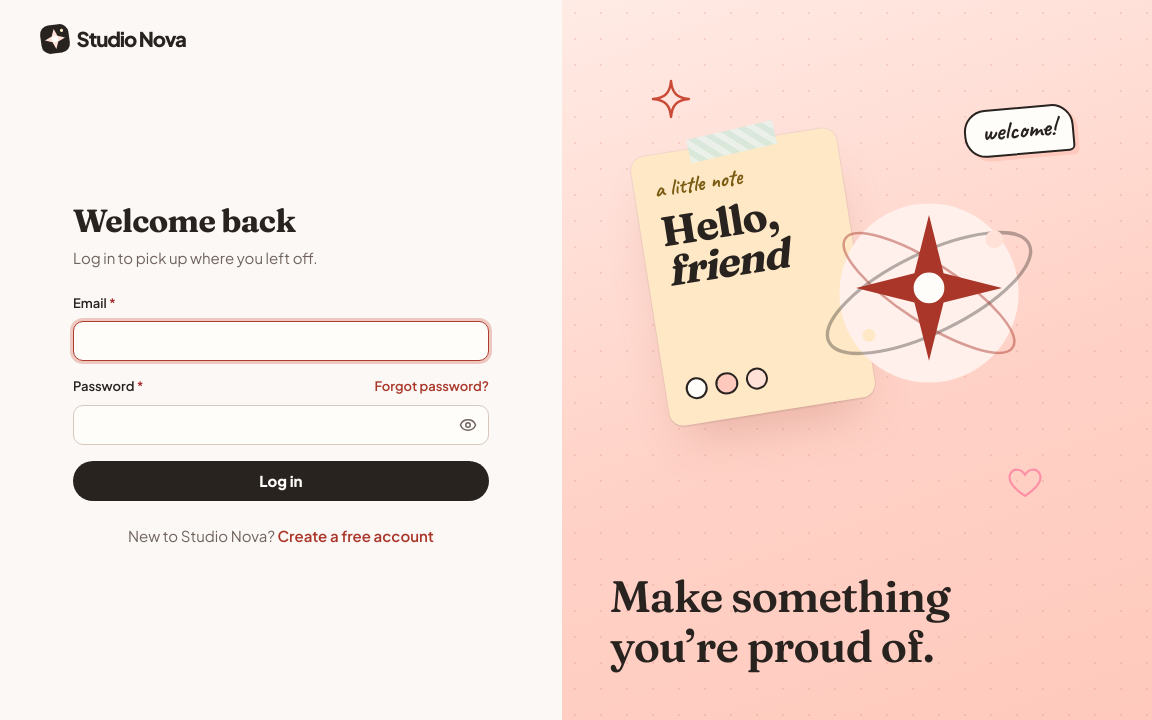
it: login › shows the server message for wrong credentials without clearing the form
Type "ada@example.com" into the field labelled "Email *" at (281, 341), box [86,322,476,360]
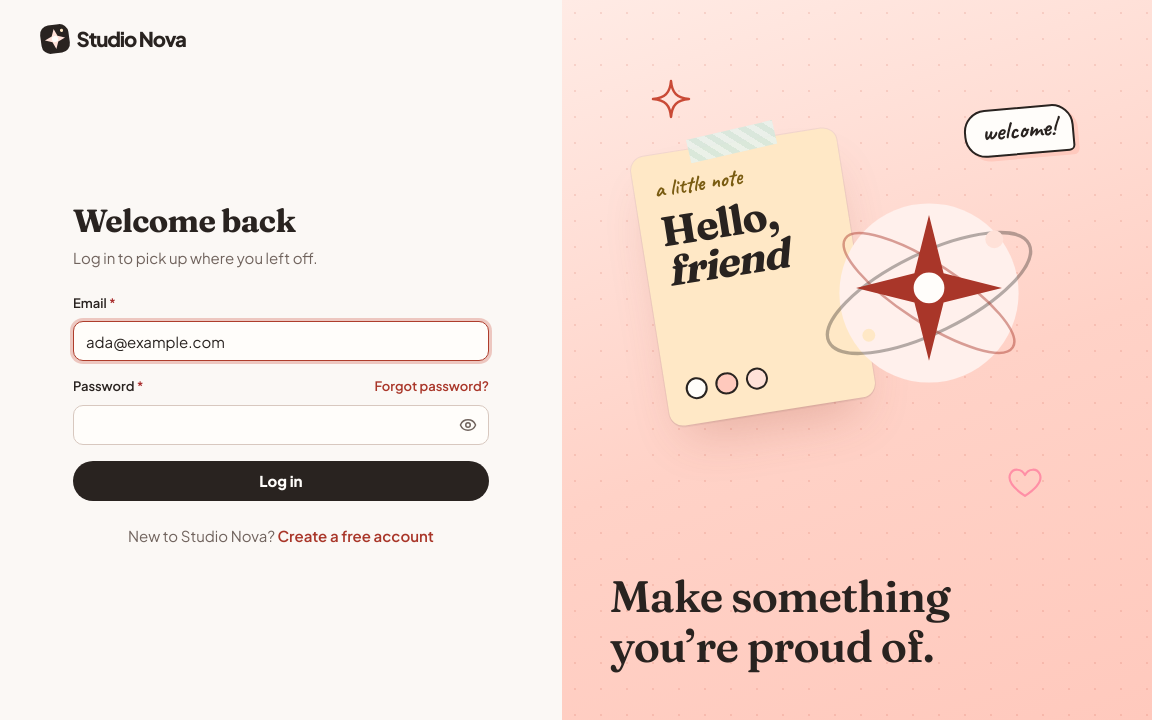
Type "nope" into the password field labelled "Password *" at (265, 425), box [86,406,444,444]
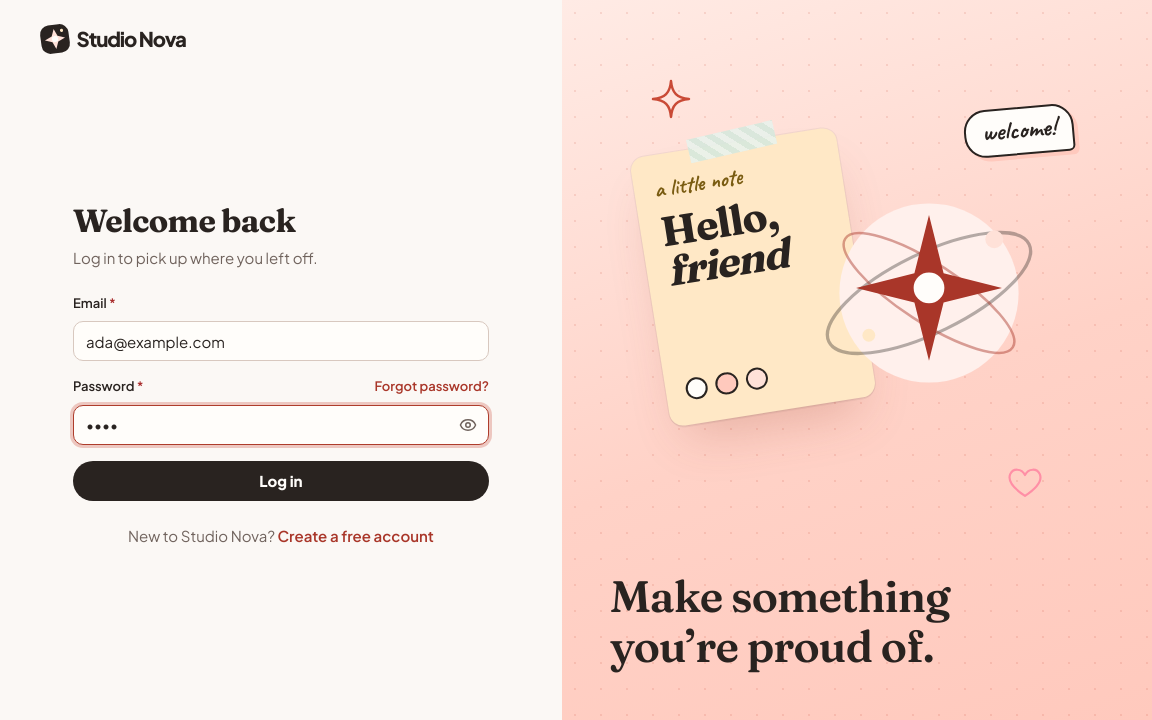
Click the button "Log in" at (281, 481), box [73,461,489,501]
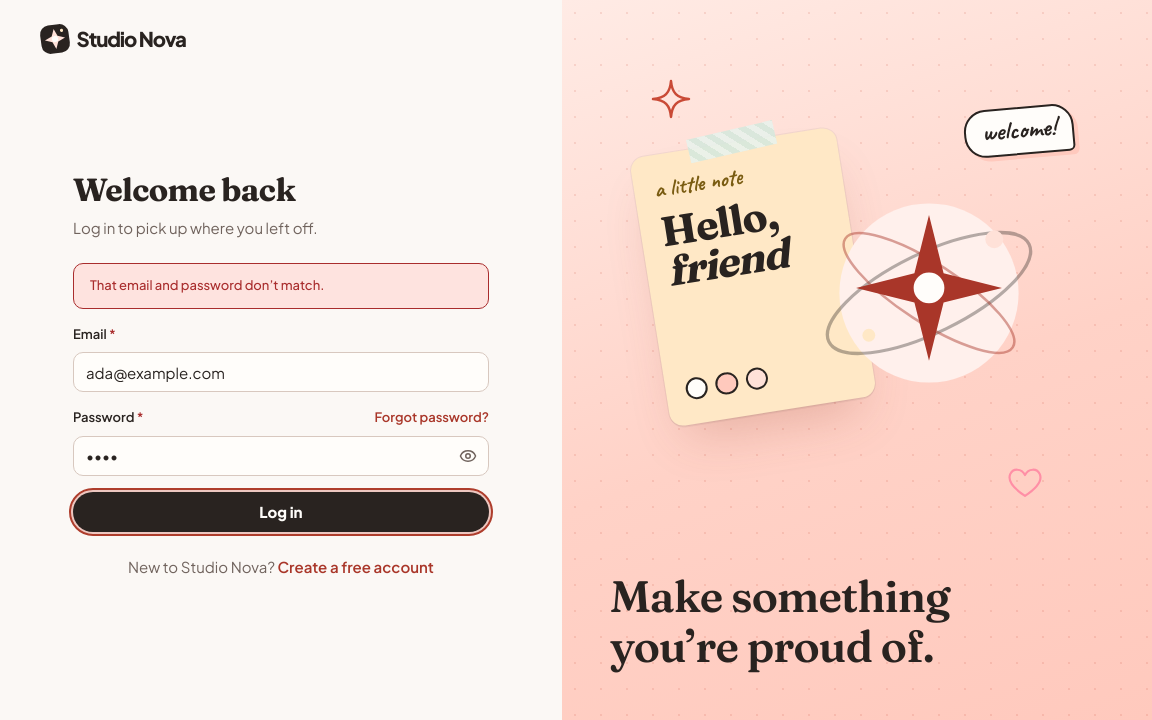
Result: the message reads "That email and password don’t match." at [90,277,324,293]
